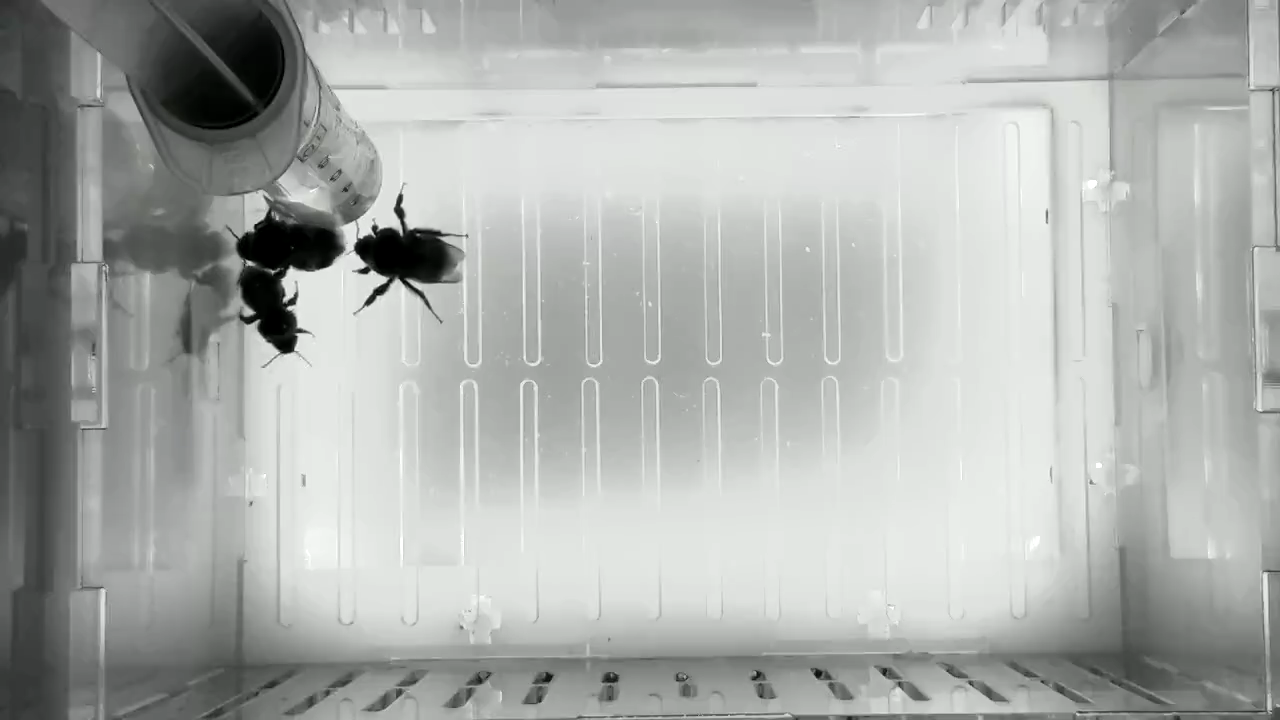bee_alive: (343, 179, 472, 328), (220, 194, 351, 276), (232, 259, 318, 372)
feeder: (257, 51, 389, 230)
